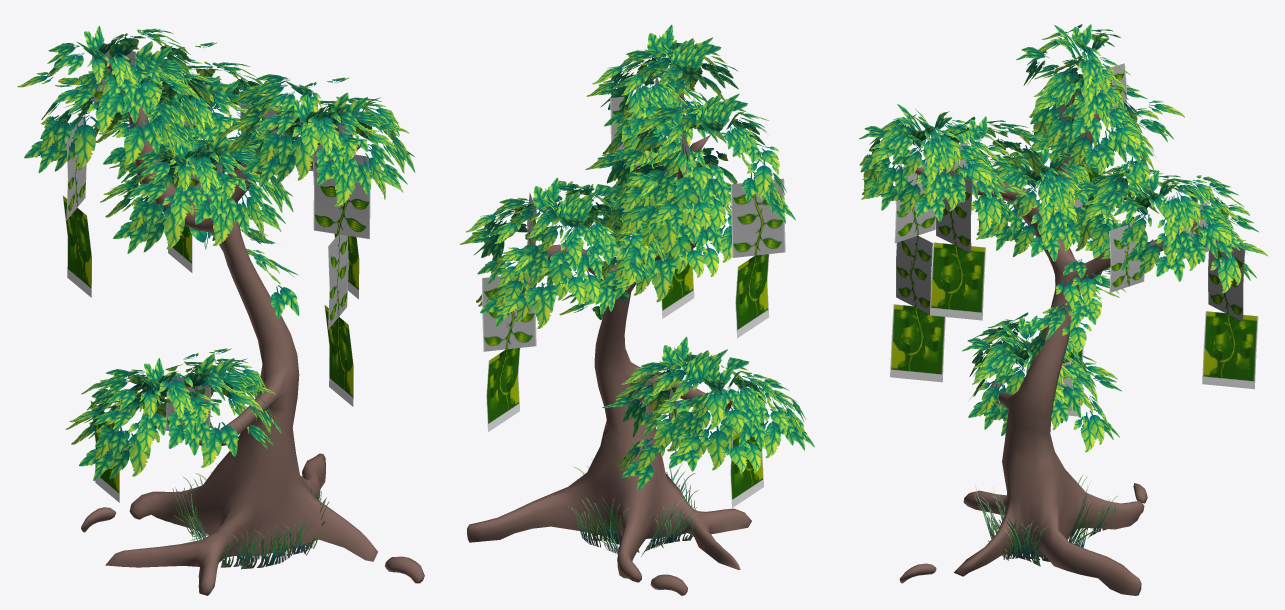
Rendered from SM_Tree2.fbx.
3 views of the same model, side by side, from view 1: azimuth 30°, elevation 25°; view 2: azimuth 150°, elevation 25°; view 3: azimuth 270°, elevation 25° (orthographic). The views are drawn at different scales.
Visible parts, largest first — view 1: Tree2Mesh; view 2: Tree2Mesh; view 3: Tree2Mesh.
Part boxes in pixels (<box>): Tree2Mesh: <box>17,26,424,595</box>; Tree2Mesh: <box>460,25,814,595</box>; Tree2Mesh: <box>859,24,1267,595</box>.
Bounding box in the file's own units: 646 × 986 × 799.
